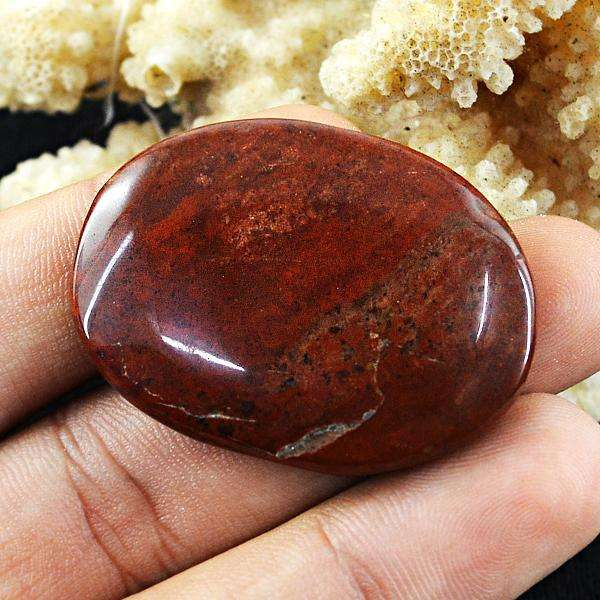Red_Jasper: (66, 117, 538, 475)
